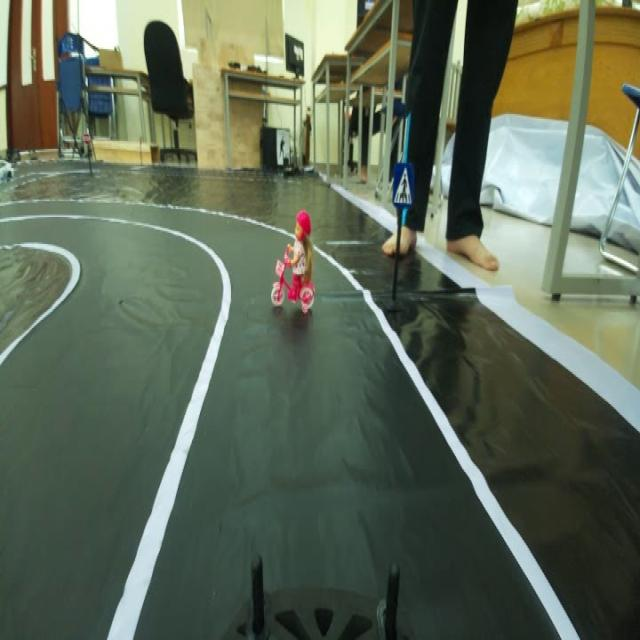crosswalk: (392, 152, 414, 216)
pedestrian: (271, 204, 323, 318)
